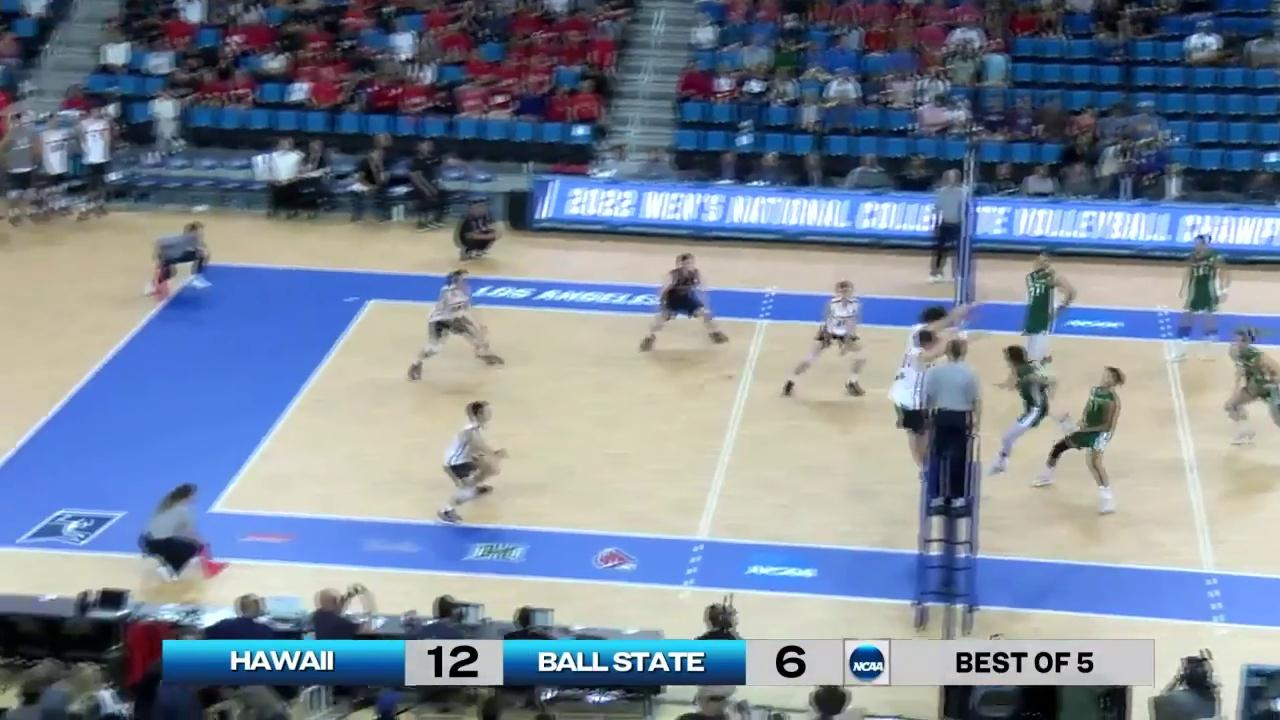player: (1036, 368, 1124, 518), (991, 347, 1080, 475), (408, 269, 503, 380), (783, 282, 869, 396), (640, 253, 726, 350), (891, 331, 943, 486), (438, 401, 500, 524), (1011, 251, 1070, 380), (1167, 235, 1225, 360), (1227, 331, 1280, 448), (908, 307, 951, 445)
refree: (921, 335, 987, 514), (140, 481, 221, 582), (149, 219, 211, 296), (934, 170, 971, 279)
